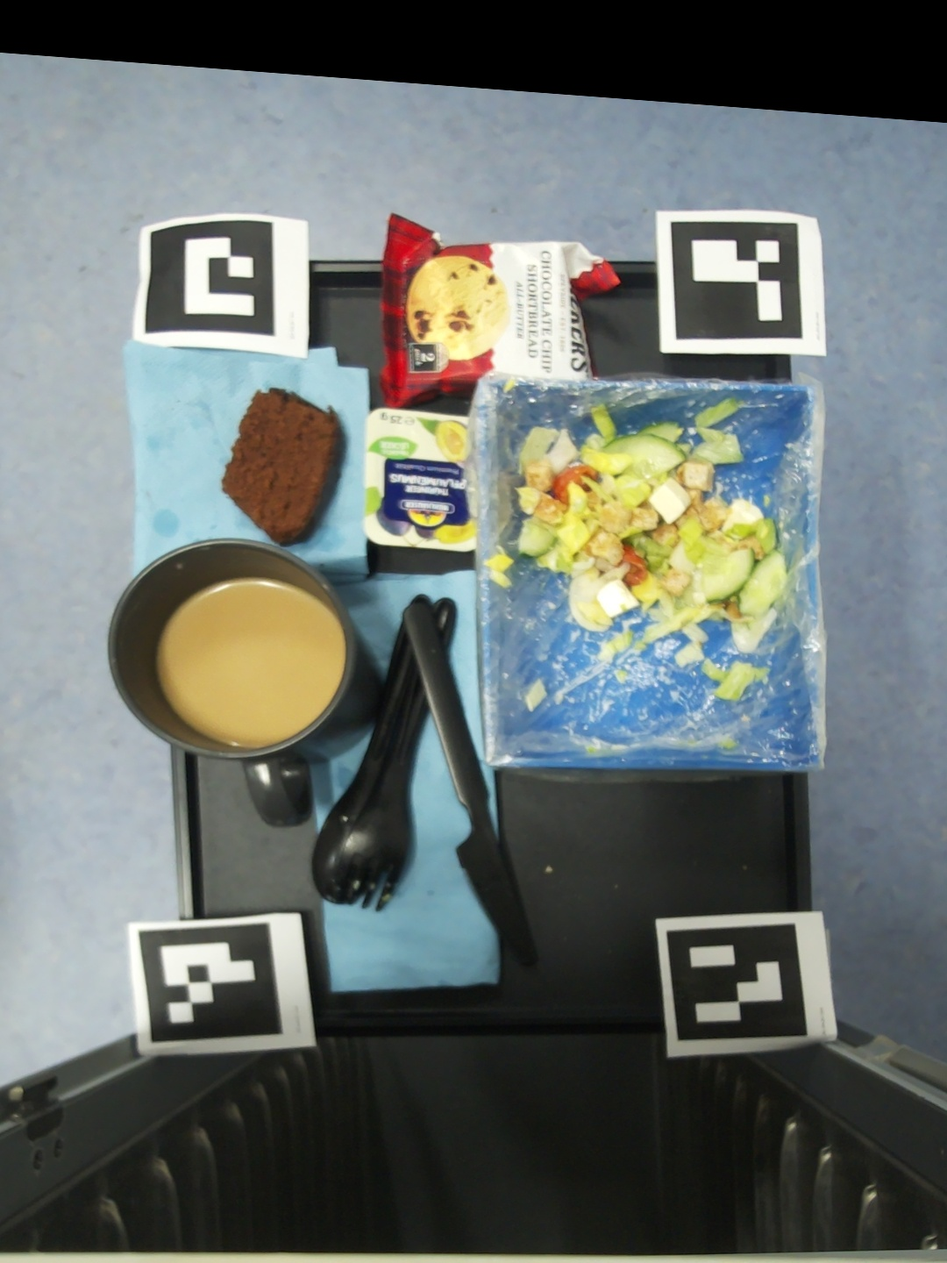brownie: (222, 387, 346, 546)
coffee_cup: (107, 539, 377, 827)
cookie: (380, 214, 622, 409)
plum_jam: (364, 409, 477, 551)
salad_main: (514, 398, 788, 668), (701, 659, 769, 701), (598, 617, 641, 660), (484, 554, 515, 588), (524, 679, 547, 712), (716, 736, 738, 749), (503, 378, 514, 394), (586, 746, 599, 754), (618, 670, 627, 681), (764, 495, 770, 506)
